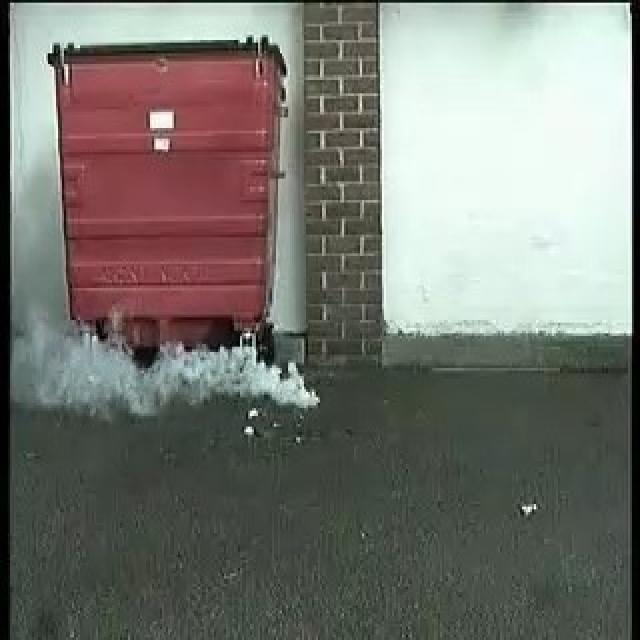smoke: (32, 325, 316, 403)
